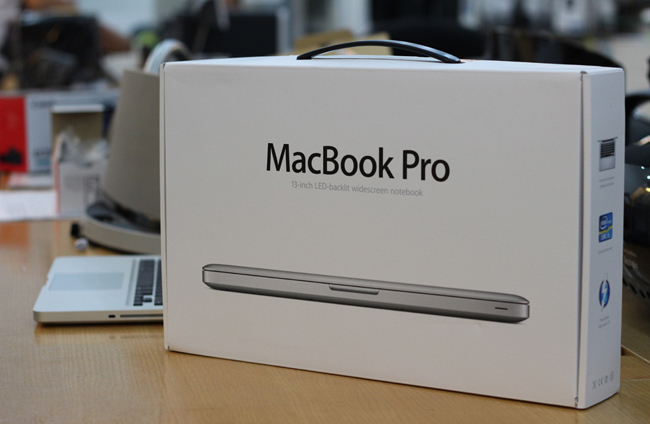Apple: (249, 123, 461, 185)
